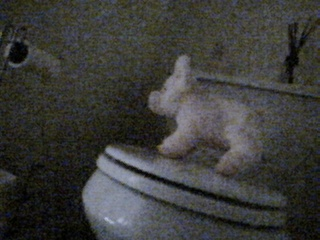piggy: (146, 52, 270, 179)
